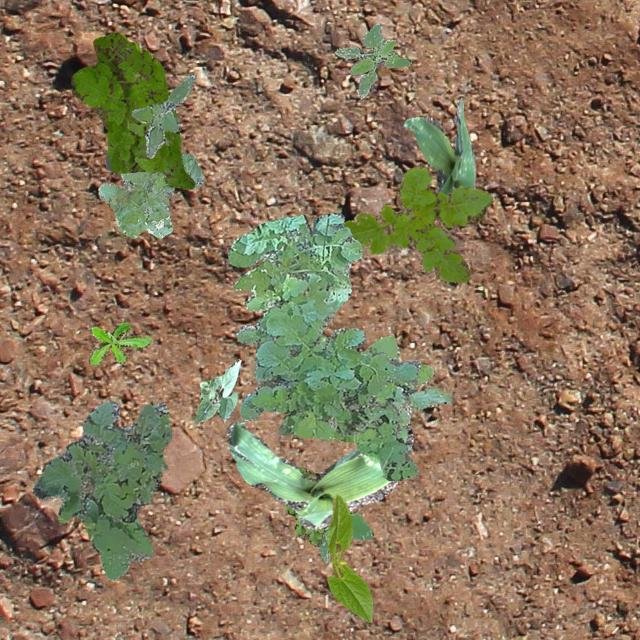crop: (225, 419, 412, 528), (402, 96, 474, 195), (326, 494, 372, 622), (194, 358, 240, 422)
weed: (226, 212, 419, 479), (31, 400, 170, 580), (290, 332, 450, 442), (342, 165, 492, 282), (70, 31, 150, 172), (122, 46, 194, 188), (96, 152, 202, 238), (334, 22, 411, 98), (130, 74, 194, 156), (282, 466, 324, 546), (316, 511, 372, 562), (89, 322, 150, 364)
